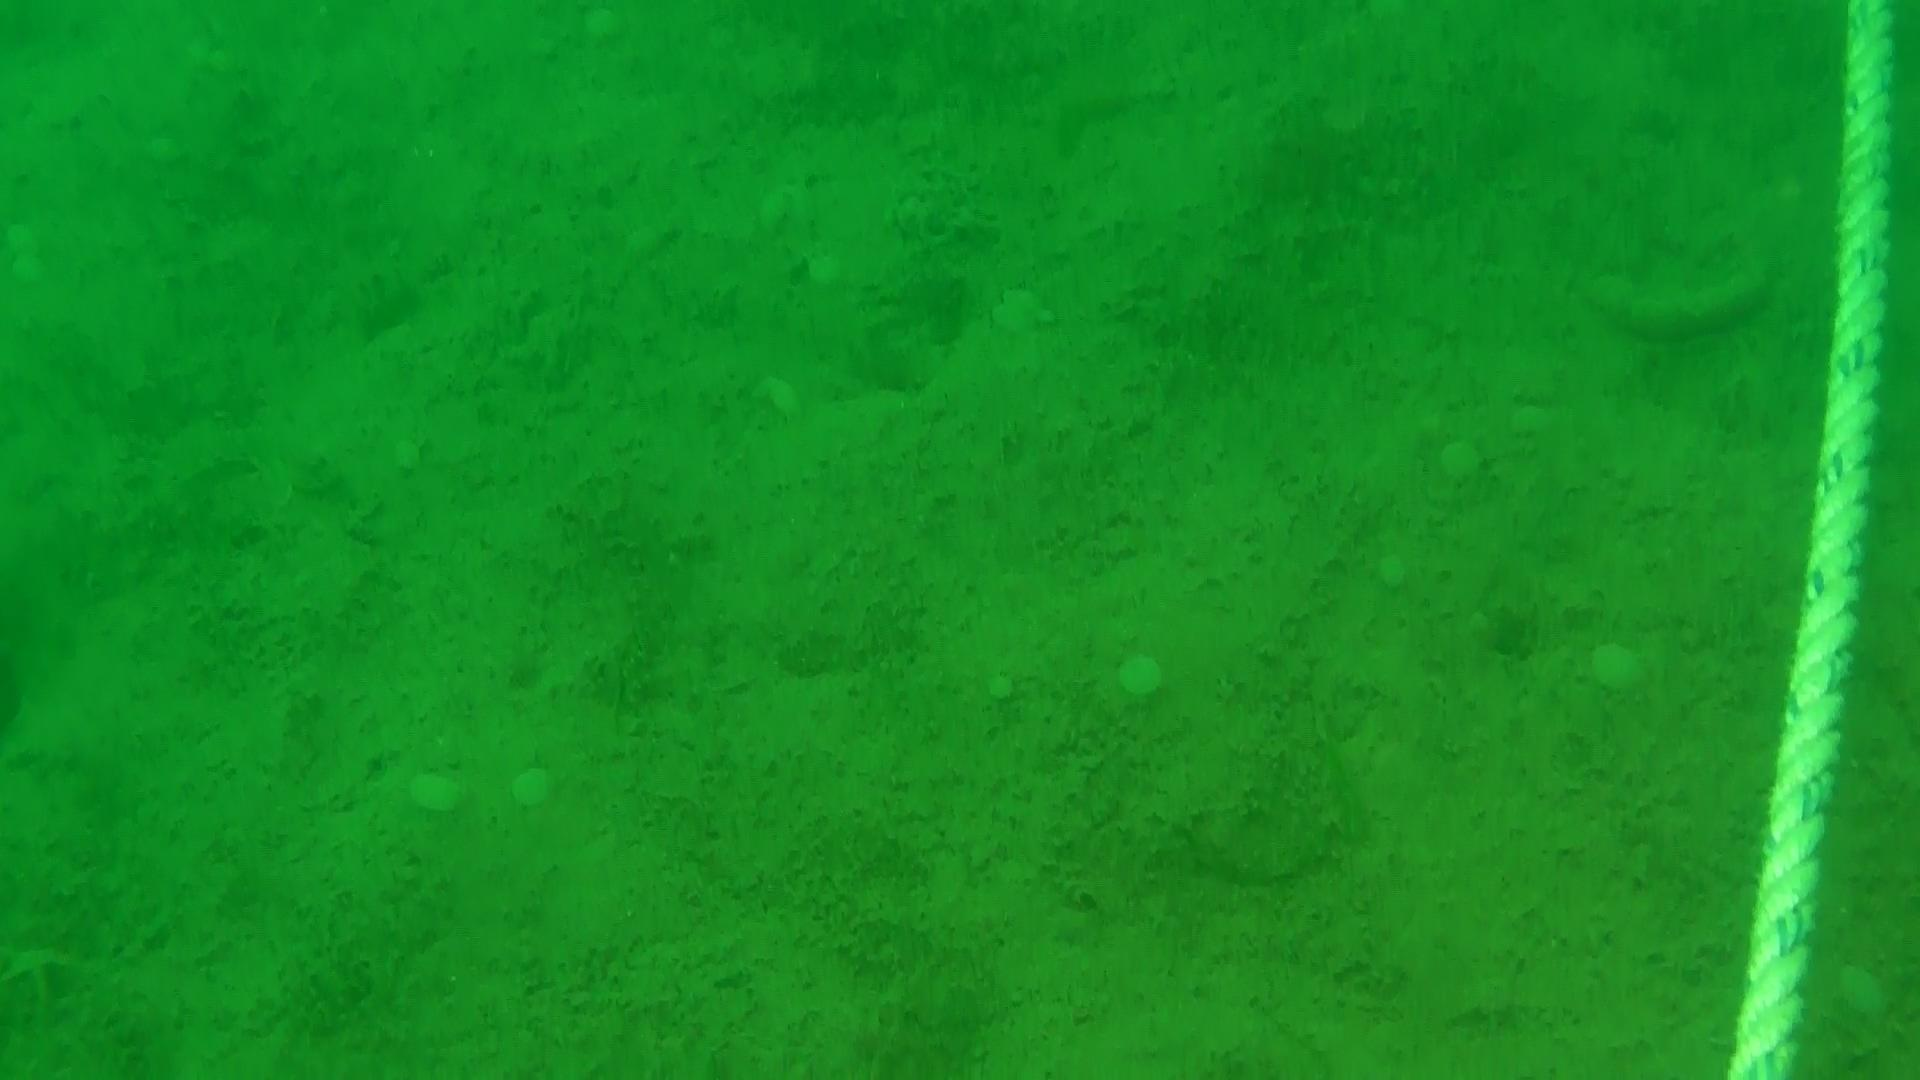rope: (1722, 0, 1898, 1080)
